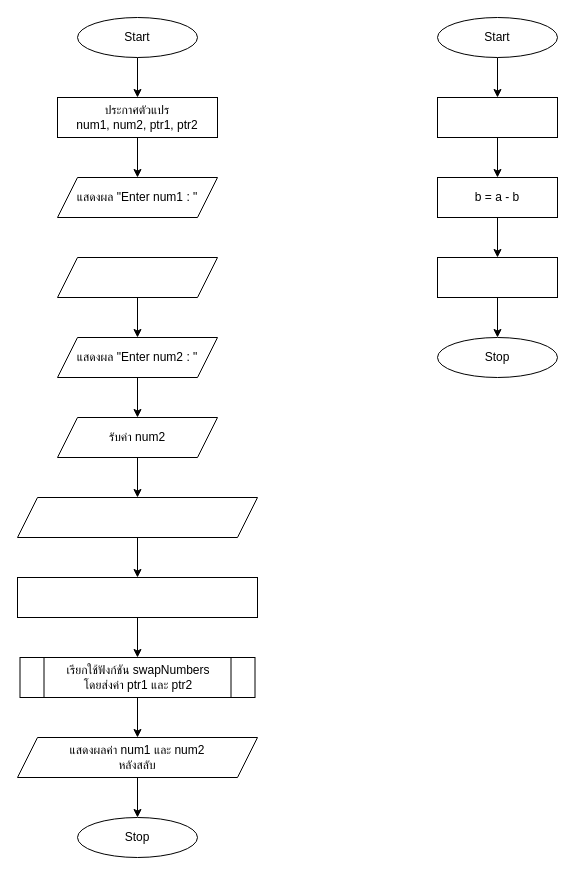
Image size: 575x875. Some labels were removed from this diagram. Each missing label, with the centre of its shape:
a = a + b: the point at 497,117
a = a - b: the point at 497,277
กำหนดให้ ptr1 ชี้ไปที่ num1 และ ptr2 ชี้ไปที่ num2: the point at 137,597
รับค่า num1: the point at 137,277
แสดงผลค่า num1 และ num2 ก่อนสลับ: the point at 137,517
